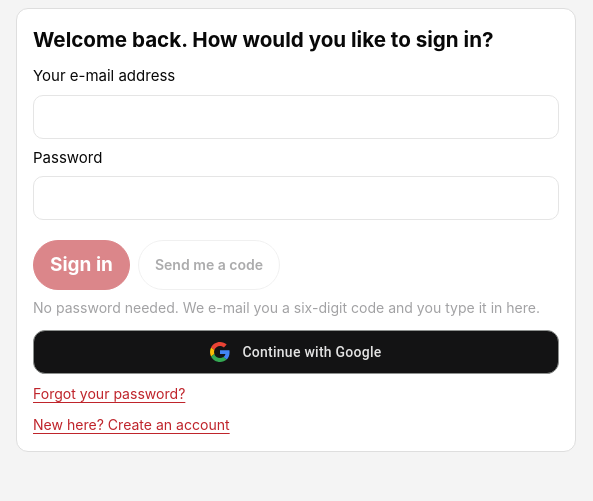
Test: 32.16 §2.0 — the sign-in screen on a 401 (SignIn = the account form under auth.welcome_back) › e-mail + password → accountSignIn → onSession; a wrong password renders auth.password_wrong, never the code
Later steps or results of the test are not shown.
Type "maya@example.com" into the field labelled "Your e-mail address" at (296, 117), box x1=33 y1=95 x2=559 y2=139
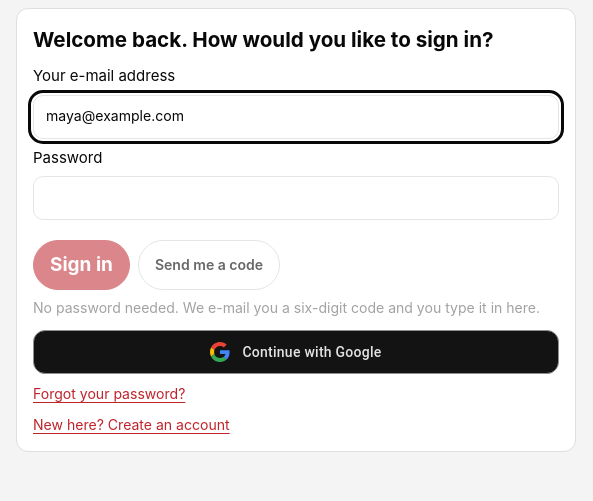
Type "nope" into the password field labelled "Password" at (296, 198), box x1=33 y1=176 x2=559 y2=220
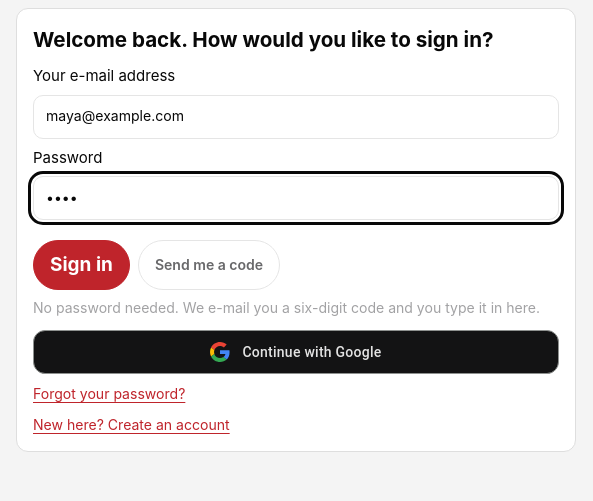
Click the button "Sign in" at (81, 265), box x1=33 y1=240 x2=130 y2=290
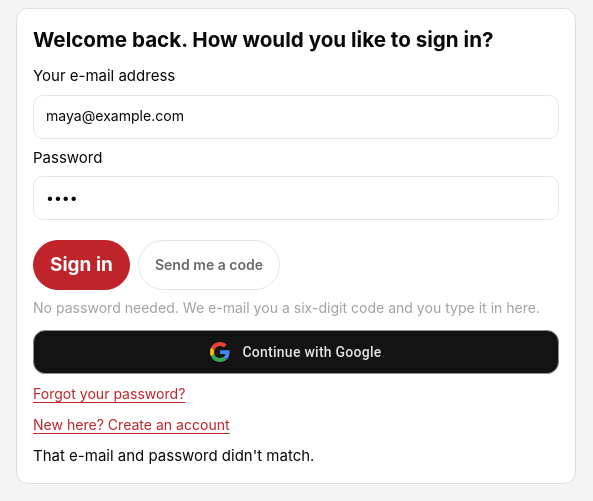
Expected: the message does not show "PASSWORD_WRONG", x1=33 y1=446 x2=314 y2=465
Expected: the message reads "That e-mail and password didn't match.", x1=33 y1=446 x2=314 y2=465
